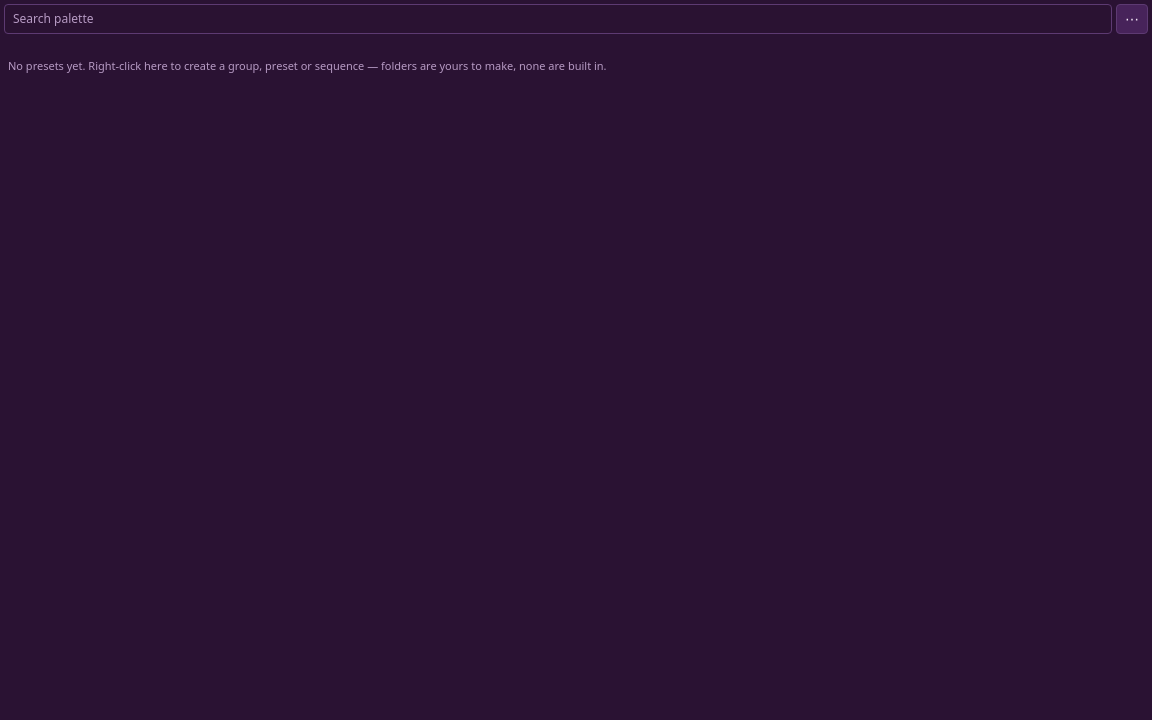
Scenario: Preset palette rename focus › right-click → New Preset creates immediately, auto-named, in rename mode with the name selected
This screenshot has width=1152, height=720.
Right-click the element named "Preset palette panel": (307,66) [0,0,1151,90]
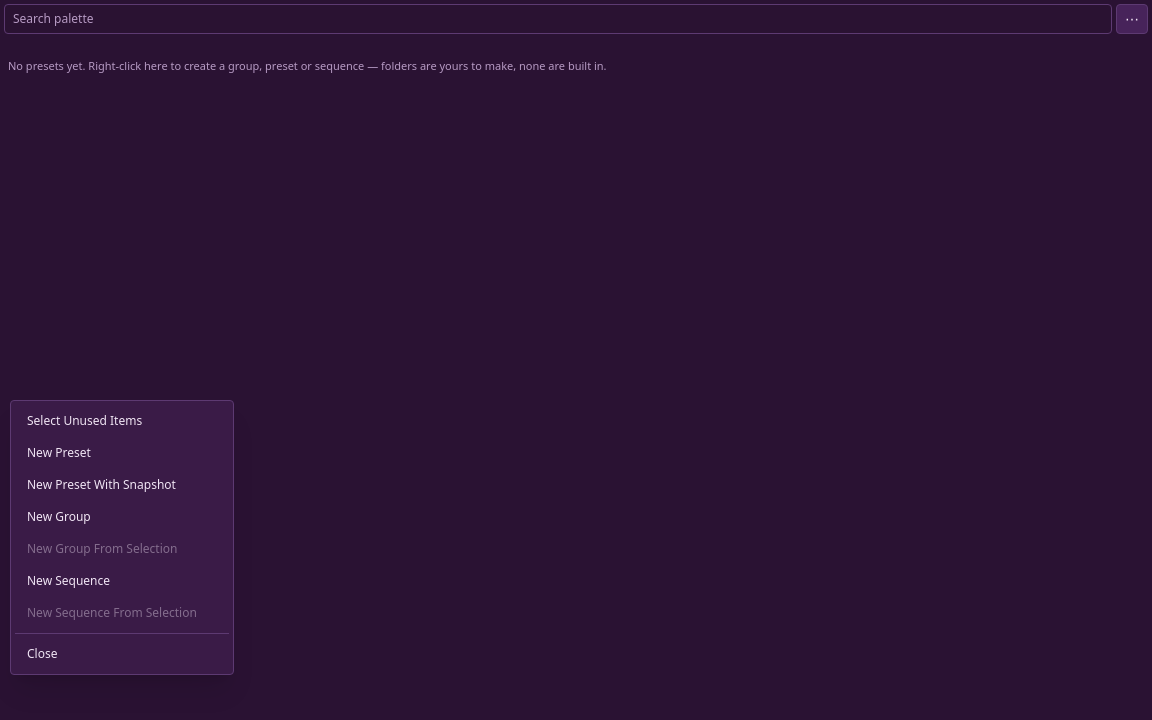
Check: the menu item "New Preset" is shown
Click the menu item "New Preset": (122,453) [15,437,229,469]
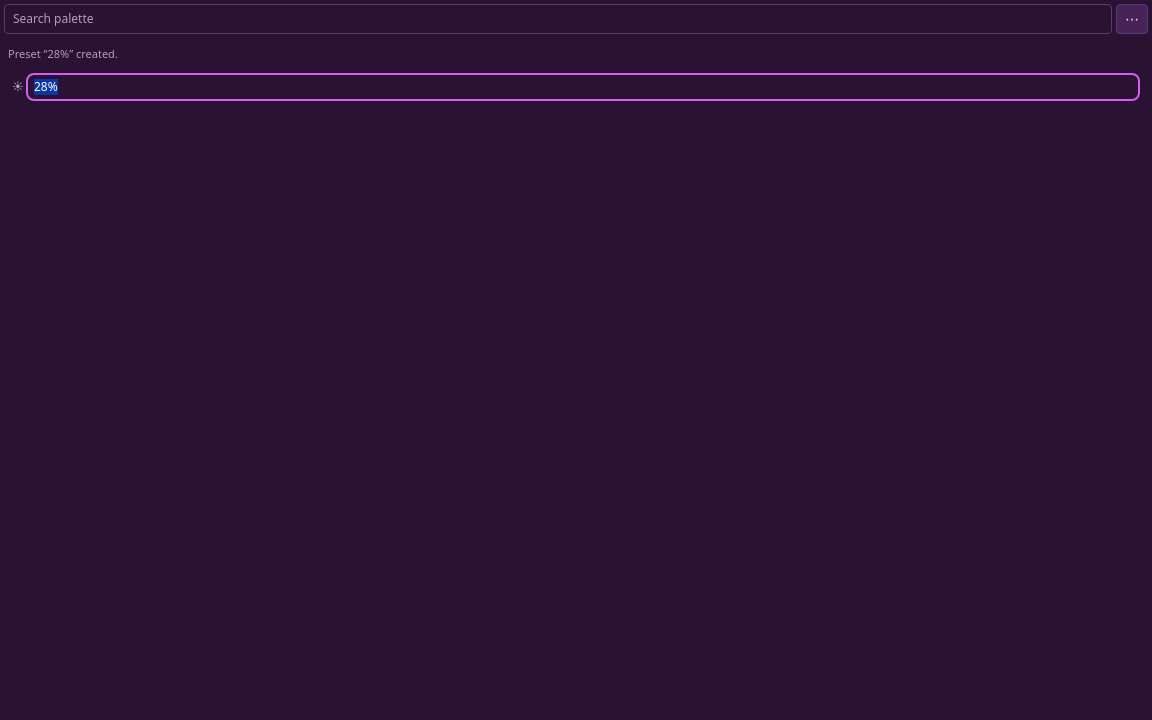
Check: the field named "Rename preset" holds "28%", box [30,76,1136,96]
